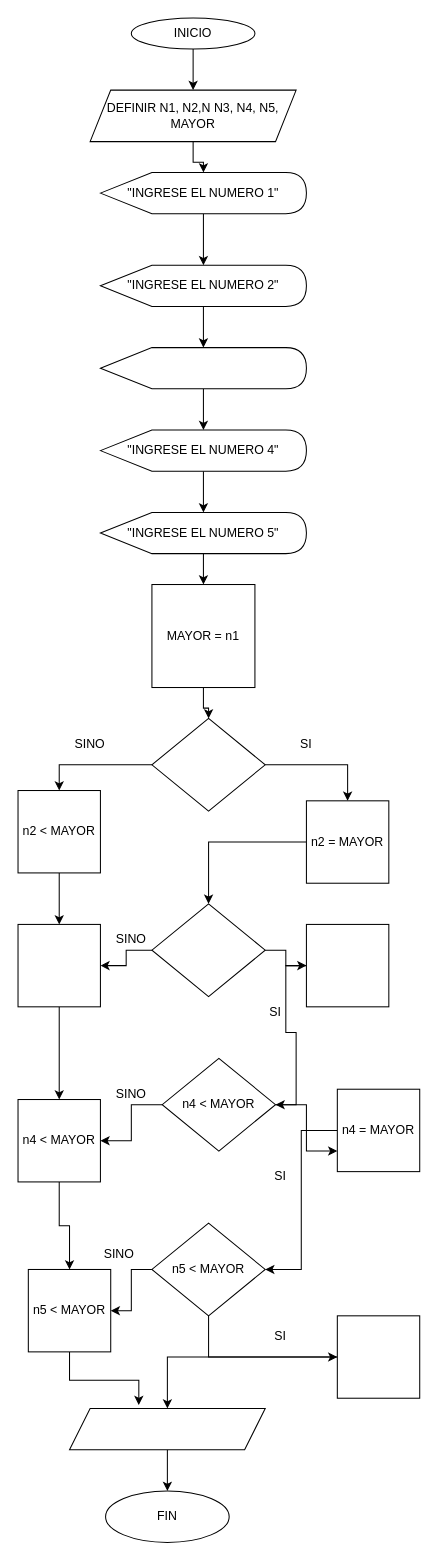
The diagram is 438 pixels wide and 1560 high, and some of its shapes have lost their labels. The shapes that lost their labels are listed below. From the top down, each one's box as (x1, y1, x2, y2) in pixels, then its label:
(99, 347, 306, 389): "INGRESE EL NUMERO 3"
(151, 717, 265, 811): n2 > MAYOR
(17, 923, 100, 1007): n3 < MAYOR
(151, 903, 265, 997): n3 > MAYOR
(305, 923, 389, 1007): n3 = MAYOR
(336, 1315, 420, 1398): n5 = MAYOR
(68, 1407, 265, 1450): MOSTRAR MAYOR
